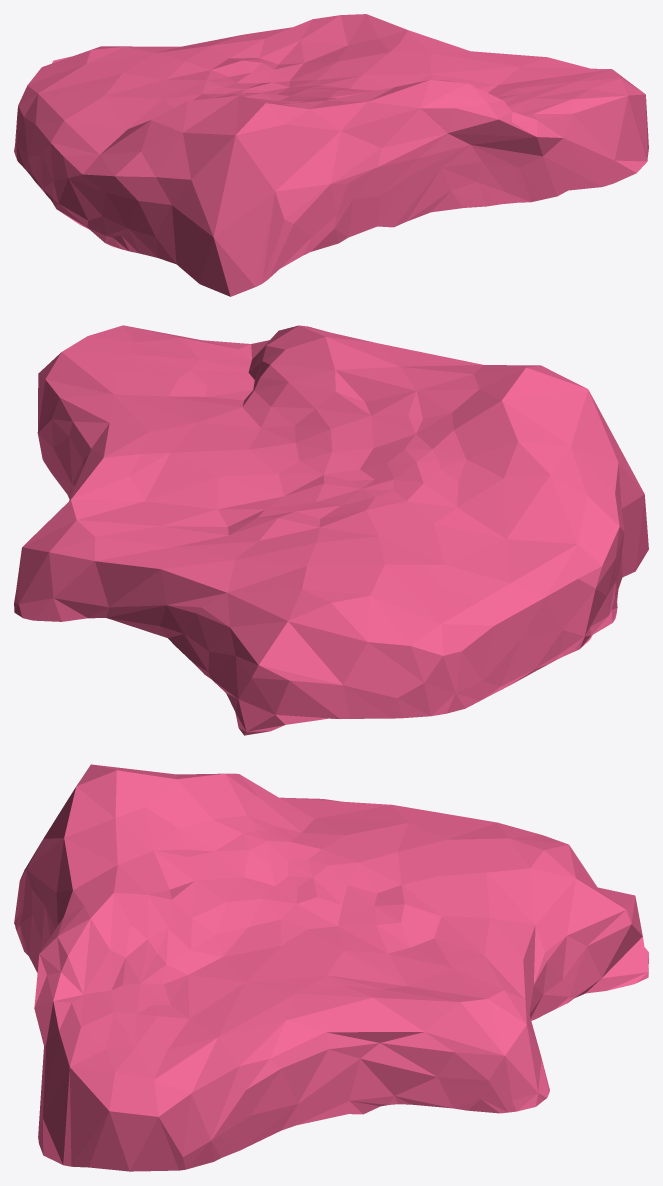
The model's file is ground_003.fbx.
The picture shows the model from 3 angles, top to bottom: view 1: azimuth 30°, elevation 25°; view 2: azimuth 150°, elevation 25°; view 3: azimuth 270°, elevation 25°; orthographic projection. The views are drawn at different scales.
Parts seen in each view (by area): view 1: ground.003; view 2: ground.003; view 3: ground.003.
Boxes of the visible parts, x1,y1,x2,y2 form: ground.003: (14, 14, 648, 296); ground.003: (14, 325, 648, 735); ground.003: (14, 764, 648, 1171).
Bounding box in the file's own units: 2519 × 732 × 2127.
1 material, 1 textured.
